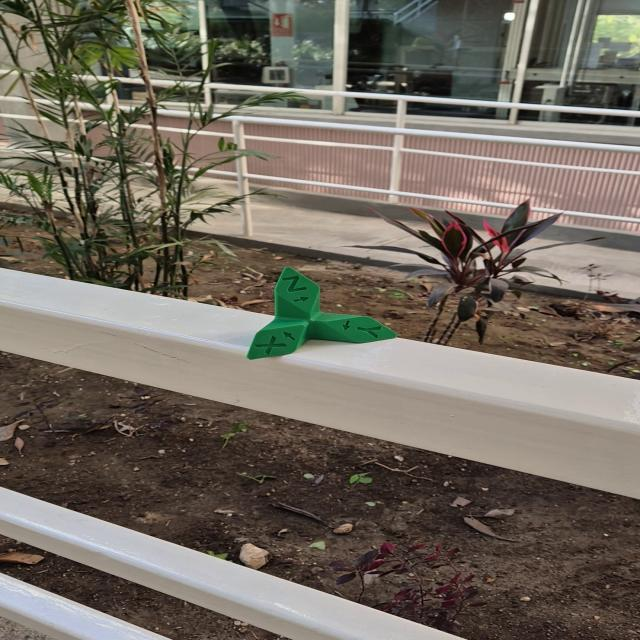objects: (244, 265, 399, 360)
